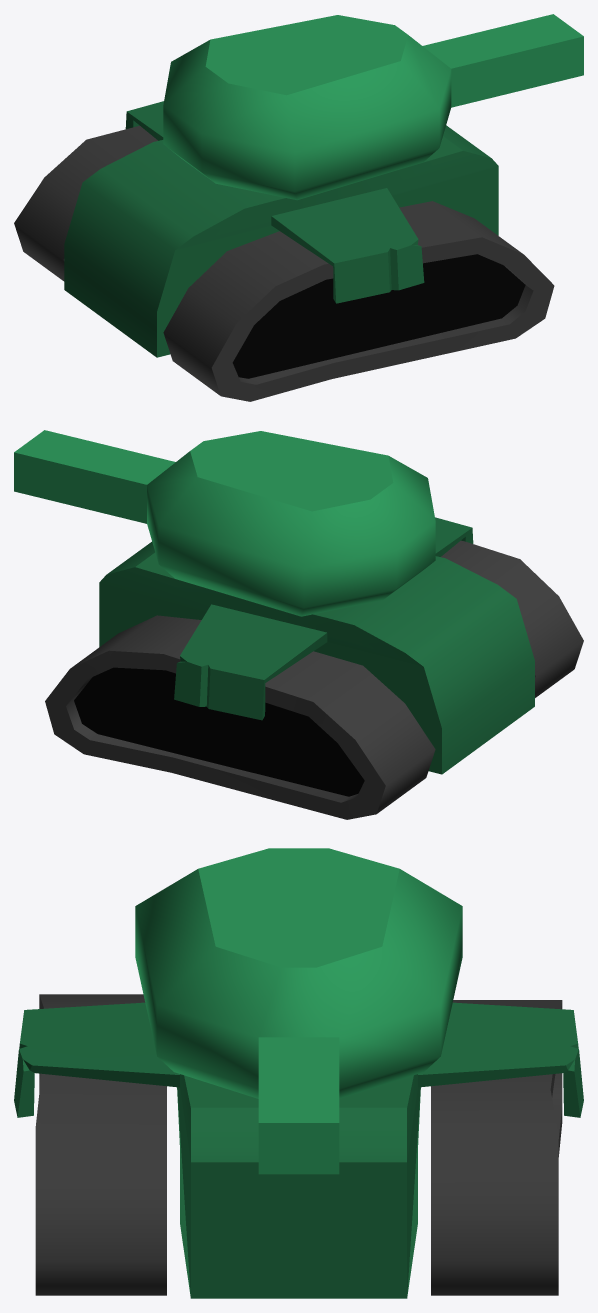
File: TankPlayer.fbx
The picture shows the model from 3 angles, top to bottom: view 1: azimuth 30°, elevation 25°; view 2: azimuth 150°, elevation 25°; view 3: azimuth 270°, elevation 25°; orthographic projection. The views are drawn at different scales.
Parts seen in each view (by area): view 1: hull.player; view 2: hull.player; view 3: hull.player.
Boxes of the visible parts, <box> form: hull.player: <box>14,14,583,401</box>; hull.player: <box>14,430,583,819</box>; hull.player: <box>14,848,583,1298</box>.
Bounding box in the file's own units: 215 × 132 × 264.
